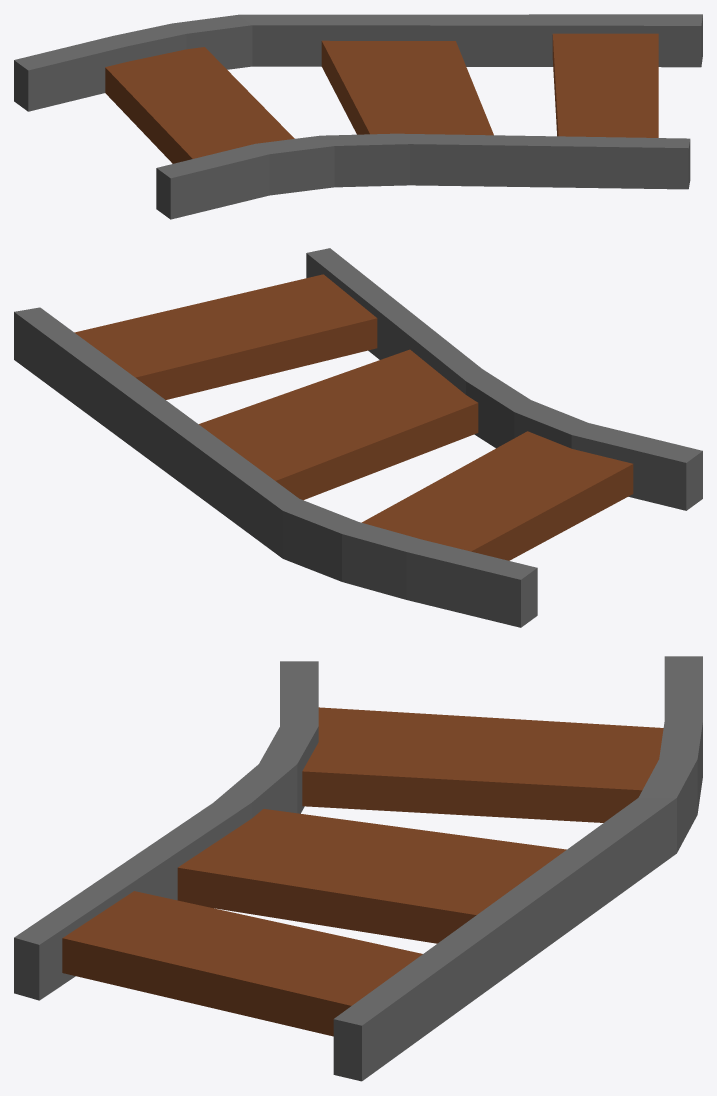
The model's file is rail_turn.fbx.
3 views of the same model, one above another, from view 1: azimuth 30°, elevation 25°; view 2: azimuth 150°, elevation 25°; view 3: azimuth 270°, elevation 25° (orthographic). The views are drawn at different scales.
Parts seen in each view (by area): view 1: Cube, Cube.001, Cube.002, Cube.003, Cube.004; view 2: Cube.001, Cube.002, Cube.004, Cube.003, Cube; view 3: Cube.001, Cube.003, Cube.002, Cube.004, Cube.
Boxes of the visible parts, left/top/right/bottom form: Cube: left=156, top=133, right=690, bottom=219; Cube.001: left=14, top=14, right=702, bottom=111; Cube.002: left=321, top=40, right=493, bottom=135; Cube.003: left=105, top=47, right=294, bottom=163; Cube.004: left=552, top=33, right=658, bottom=137; Cube.001: left=14, top=307, right=537, bottom=627; Cube.002: left=199, top=349, right=478, bottom=500; Cube.004: left=74, top=274, right=377, bottom=399; Cube.003: left=362, top=431, right=633, bottom=560; Cube: left=306, top=248, right=702, bottom=510; Cube.001: left=333, top=656, right=702, bottom=1081; Cube.003: left=302, top=707, right=663, bottom=822; Cube.002: left=177, top=809, right=566, bottom=943; Cube.004: left=62, top=891, right=422, bottom=1036; Cube: left=14, top=661, right=318, bottom=1000.
Bounding box in the file's own units: 1140 × 88.84 × 896.
